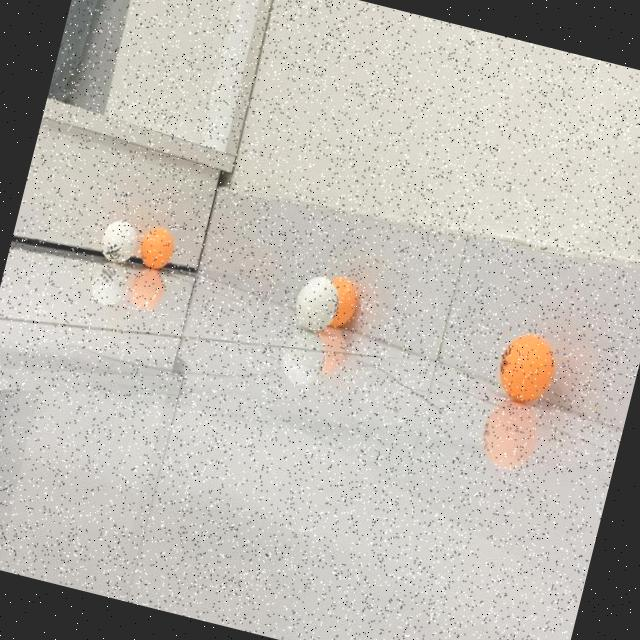ping-pong-ball: (491, 329, 560, 408), (288, 272, 342, 336), (312, 273, 361, 331), (94, 216, 140, 268), (134, 224, 177, 274)
